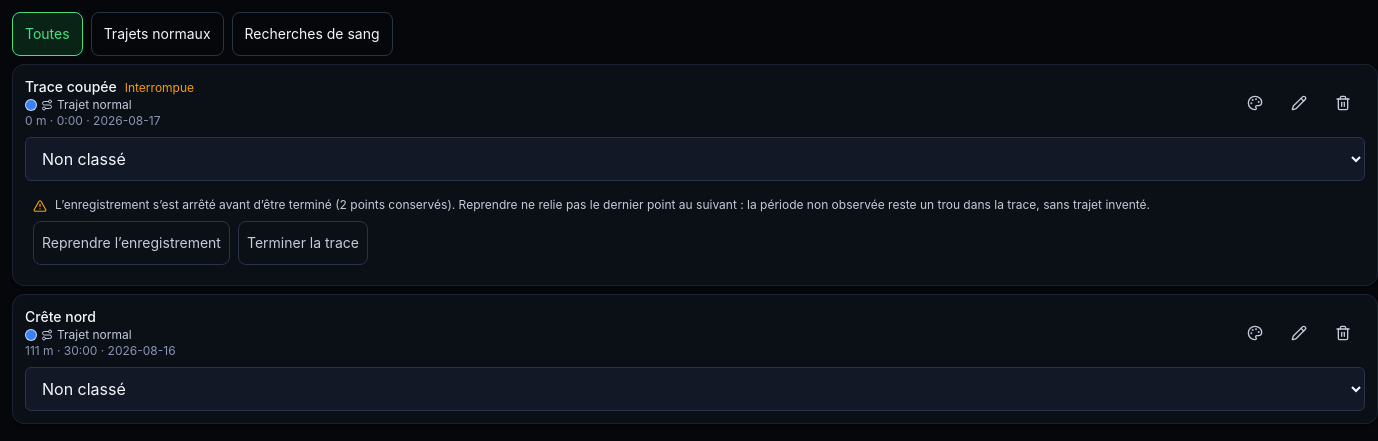
TrackList › flags an interrupted track and lets the user finish it without losing points
Expected: the text "Interrompue" is shown, 125,80 -> 194,95
Click the button "Terminer la trace": (303, 243) 238,221 -> 368,265
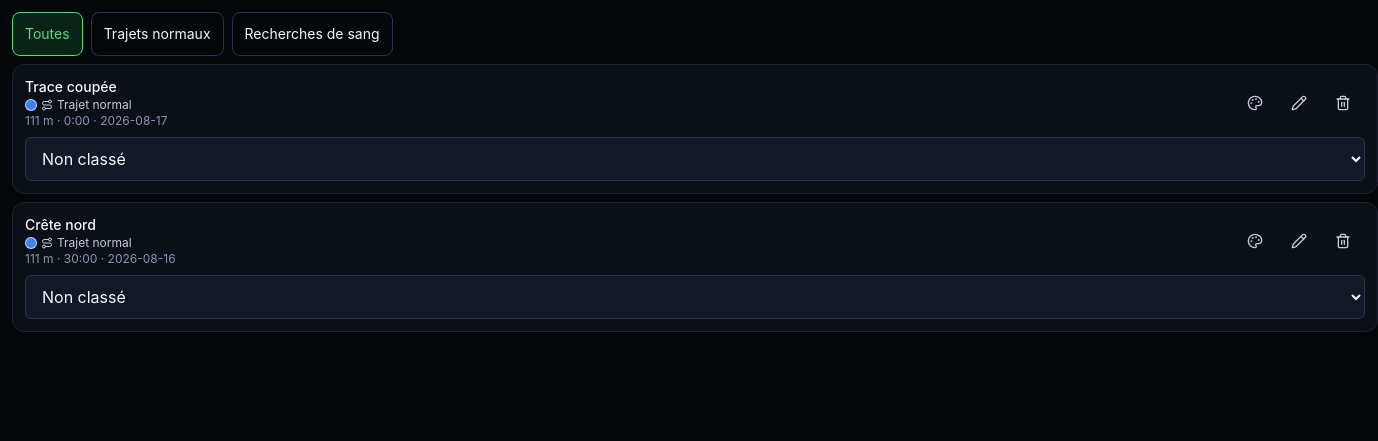
Expected: the text "Interrompue" is gone
